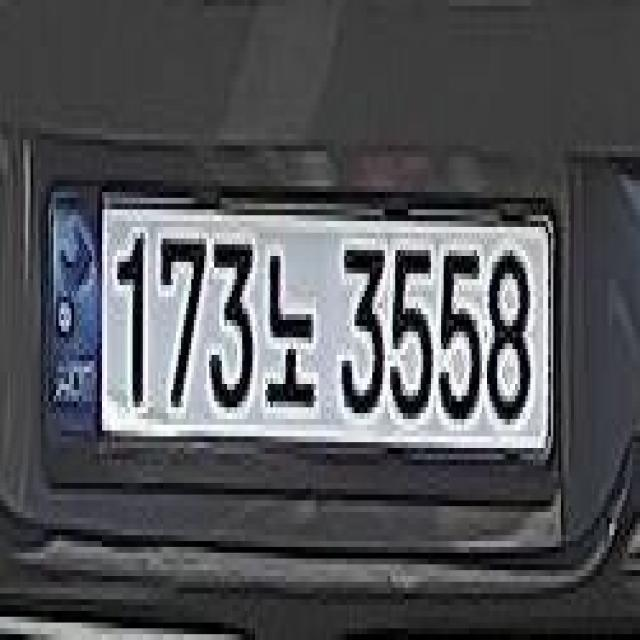illegal_plate: (38, 170, 567, 503)
